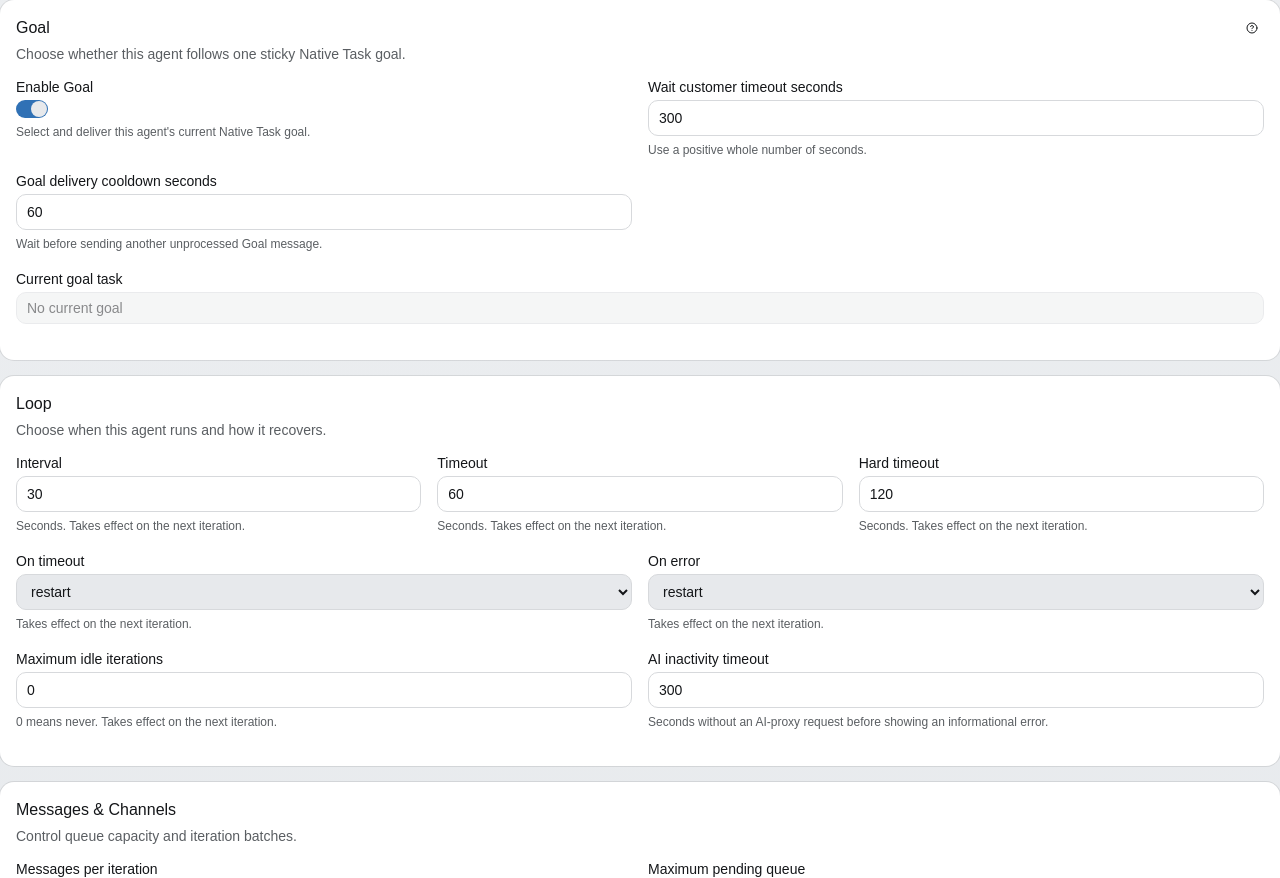
Test case: discards a Goal timeout edit back to the loaded value
The image size is (1280, 878).
Replace the text in the number field labelled "Wait customer timeout seconds" with "120". click: (956, 118)
box: [648,100,1264,136]
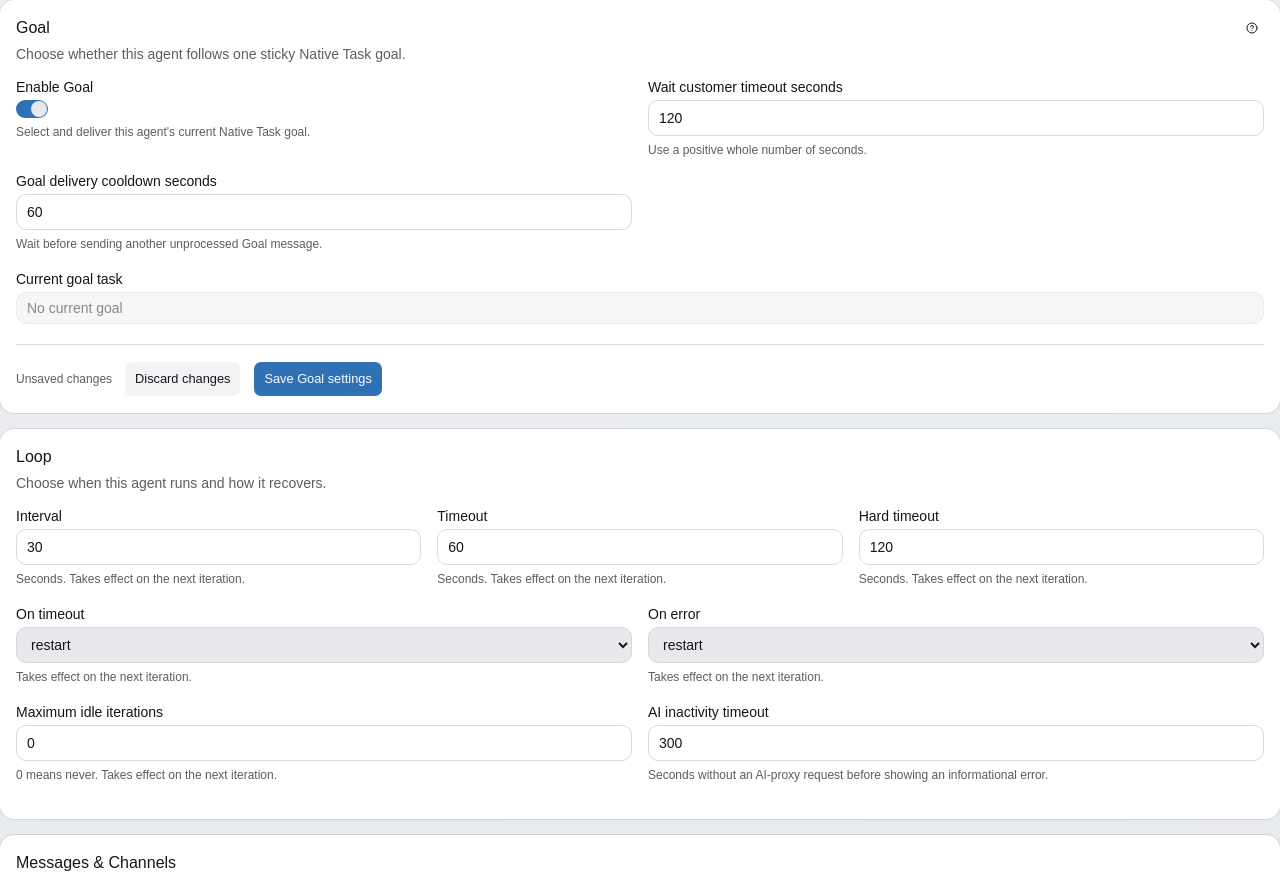
Click the button "Discard changes". click: (183, 379)
box: [124,361,241,397]
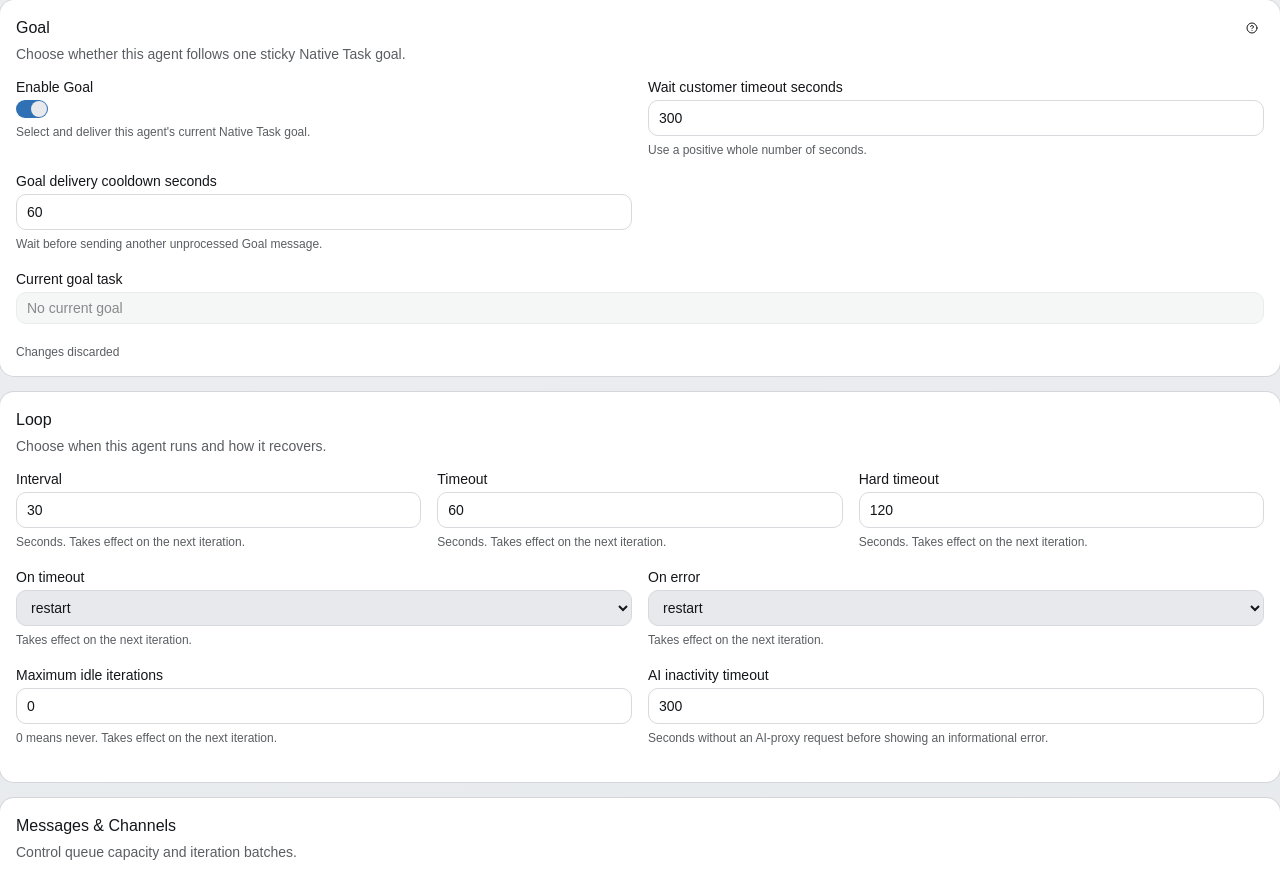
Check: the number field labelled "Wait customer timeout seconds" holds "300", box [648,100,1264,136]
Check: the button "Save Goal settings" is gone
